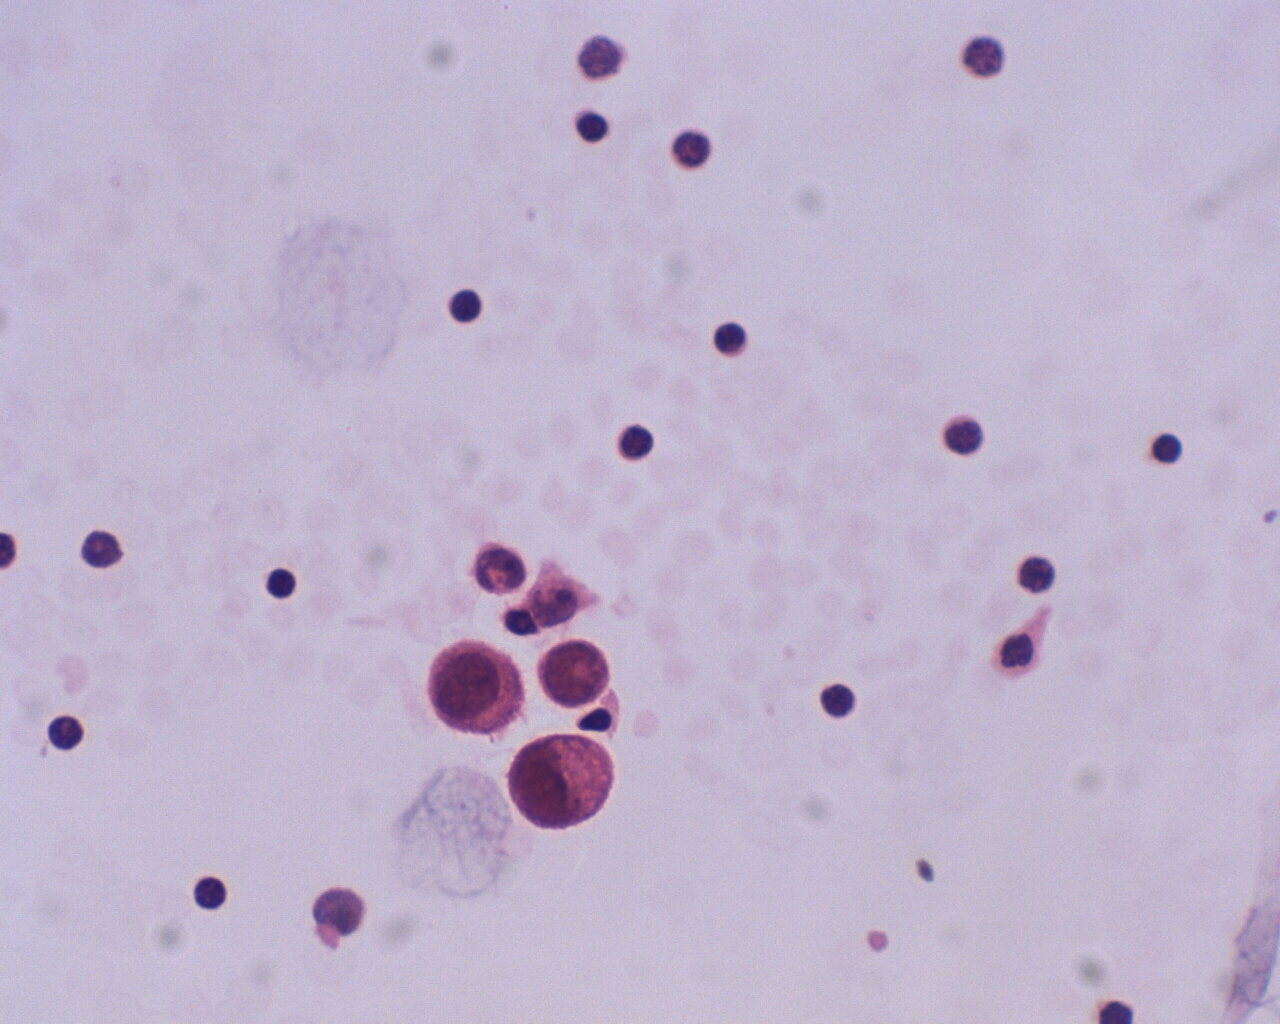ab: (508, 732, 616, 839), (421, 636, 534, 739), (539, 633, 616, 711)
normal: (612, 411, 664, 464), (819, 677, 870, 726), (706, 312, 755, 363), (42, 706, 86, 762), (940, 412, 987, 461), (187, 872, 235, 915), (571, 104, 613, 152), (446, 281, 486, 328), (1143, 427, 1186, 469), (261, 563, 302, 603)
